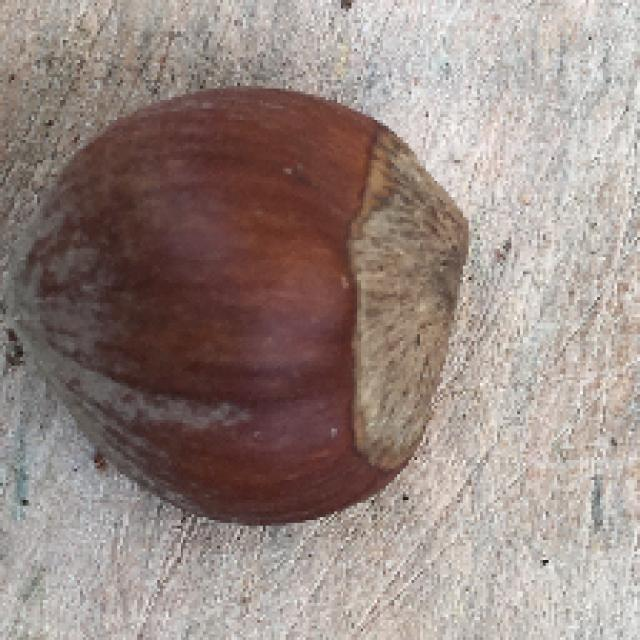qualityHazelnut: (2, 77, 491, 536)
